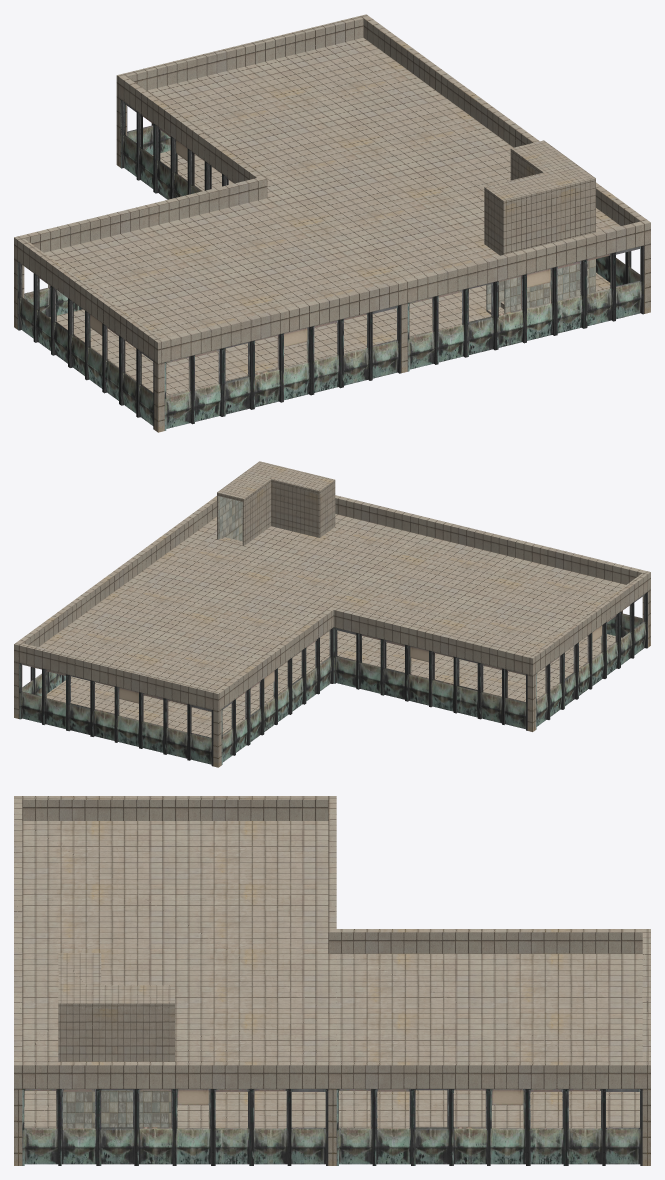
The model's file is BagSS09top_500.fbx.
3 views of the same model, one above another, from view 1: azimuth 30°, elevation 25°; view 2: azimuth 150°, elevation 25°; view 3: azimuth 270°, elevation 25° (orthographic). The views are drawn at different scales.
Parts seen in each view (by area): view 1: topCrete500, topMain500, topStairWell500; view 2: topCrete500, topMain500, topStairWell500; view 3: topCrete500, topMain500, topStairWell500.
Boxes of the visible parts, box(x1,y1,x2,y2) form: topCrete500: box(14, 14, 650, 432); topMain500: box(17, 99, 644, 430); topStairWell500: box(486, 259, 595, 313); topCrete500: box(14, 461, 650, 767); topMain500: box(19, 592, 647, 766); topStairWell500: box(218, 496, 242, 541); topCrete500: box(14, 796, 650, 1165); topMain500: box(22, 1089, 642, 1165); topStairWell500: box(63, 1090, 171, 1128).
Bounding box in the file's own units: 40.92 × 10.15 × 40.92.
